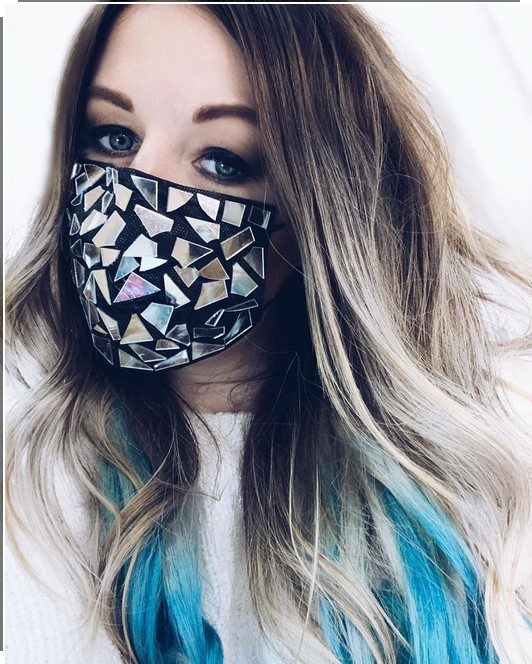face_with_mask: (50, 1, 310, 370)
